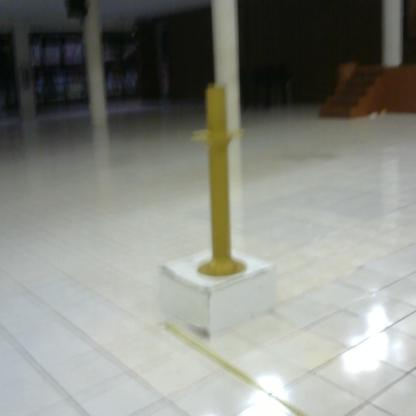pole: (189, 79, 253, 279)
